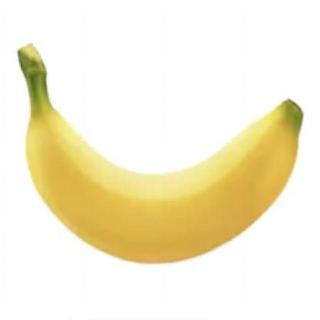banana: (23, 95, 306, 265)
